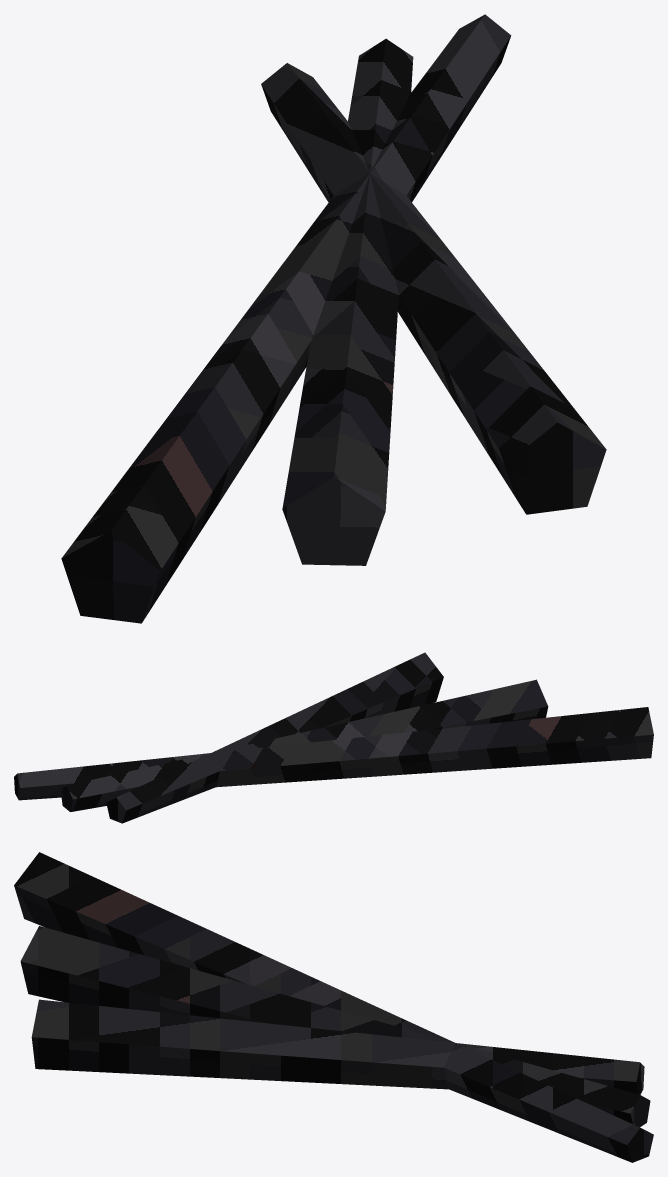
Rendered from enfeite_raiz_chao.fbx.
3 renders of one model, top to bottom at view 1: azimuth 30°, elevation 25°; view 2: azimuth 150°, elevation 25°; view 3: azimuth 270°, elevation 25°, orthographic. The views are drawn at different scales.
Visible parts, largest first — view 1: vulcao_enfeite_raiz_chao; view 2: vulcao_enfeite_raiz_chao; view 3: vulcao_enfeite_raiz_chao.
Part boxes in pixels (x1=…): vulcao_enfeite_raiz_chao: x1=61, y1=14, x2=606, y2=623; vulcao_enfeite_raiz_chao: x1=14, y1=652, x2=653, y2=823; vulcao_enfeite_raiz_chao: x1=14, y1=852, x2=653, y2=1162.
Bounding box in the file's own units: 34.89 × 3.44 × 33.01.
1 material, 1 textured.
